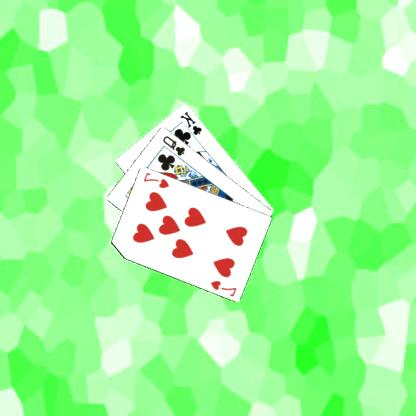7H: (209, 277, 240, 298), (142, 170, 172, 190)
KC: (179, 109, 205, 141)
QC: (162, 132, 188, 157)
